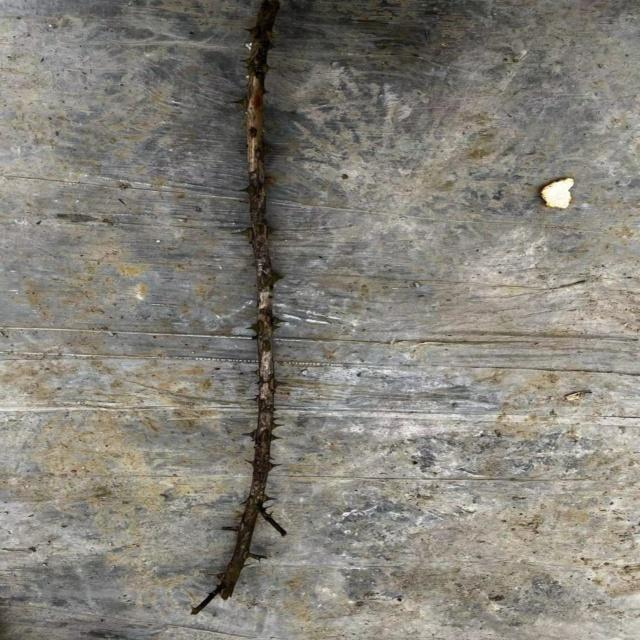branch: (210, 0, 279, 601)
